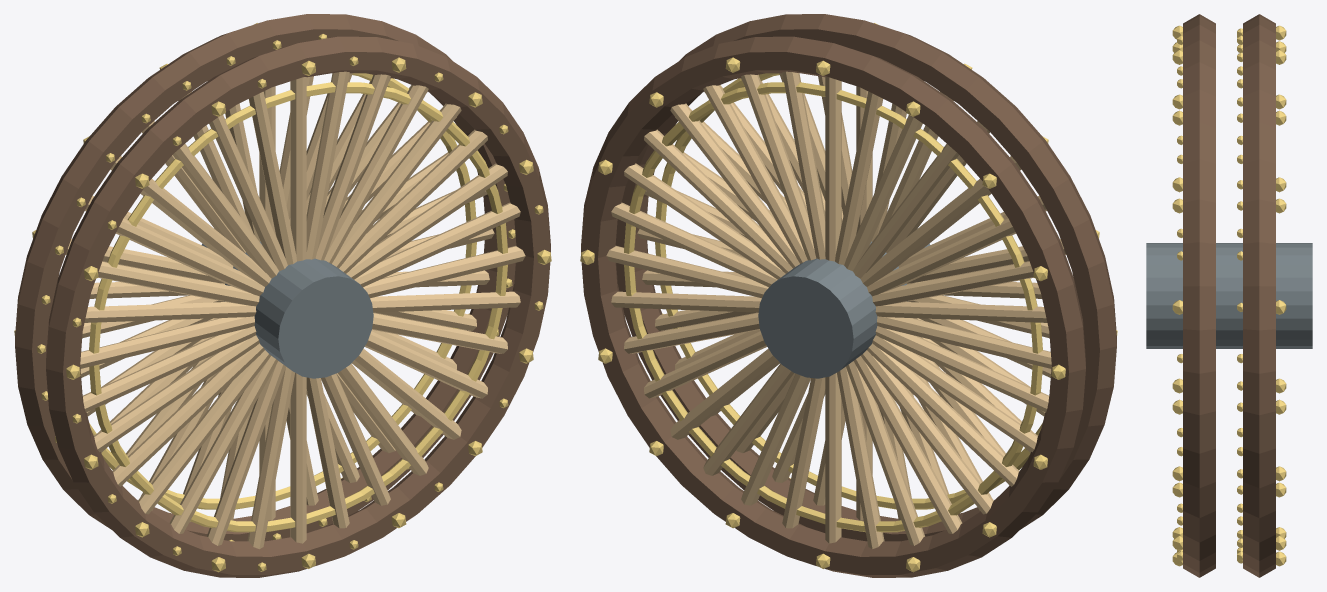
The model's file is matsuri_float_wheel.glb.
The picture shows the model from 3 angles, left to right: view 1: azimuth 30°, elevation 25°; view 2: azimuth 150°, elevation 25°; view 3: azimuth 270°, elevation 25°; orthographic projection. The views are drawn at different scales.
Visible parts, largest first — view 1: Giant ceremonial hikiyama wheel outer tire, Giant ceremonial hikiyama wheel outer tire.001, Central iron axle, Giant ceremonial hikiyama wheel gold hoop, Giant ceremonial hikiyama wheel gold hoop.001, Giant ceremonial hikiyama wheel spoke.004, Giant ceremonial hikiyama wheel spoke.005, Giant ceremonial hikiyama wheel spoke.020, Giant ceremonial hikiyama wheel spoke.021, Giant ceremonial hikiyama wheel spoke.019, Giant ceremonial hikiyama wheel spoke.006, Giant ceremonial hikiyama wheel spoke.003 (+46 smaller); view 2: Giant ceremonial hikiyama wheel outer tire.001, Giant ceremonial hikiyama wheel outer tire, Central iron axle, Giant ceremonial hikiyama wheel gold hoop.001, Giant ceremonial hikiyama wheel gold hoop, Giant ceremonial hikiyama wheel spoke.036, Giant ceremonial hikiyama wheel spoke.037, Giant ceremonial hikiyama wheel spoke.052, Giant ceremonial hikiyama wheel spoke.053, Giant ceremonial hikiyama wheel spoke.051, Giant ceremonial hikiyama wheel spoke.038, Giant ceremonial hikiyama wheel spoke.035 (+46 smaller); view 3: Giant ceremonial hikiyama wheel outer tire, Giant ceremonial hikiyama wheel outer tire.001, Central iron axle.
Part boxes in pixels (box(x1,y1,x2,y2)): Giant ceremonial hikiyama wheel outer tire: box(46, 36, 550, 577); Giant ceremonial hikiyama wheel outer tire.001: box(15, 14, 516, 541); Central iron axle: box(201, 241, 373, 378); Giant ceremonial hikiyama wheel gold hoop: box(89, 82, 507, 532); Giant ceremonial hikiyama wheel gold hoop.001: box(89, 73, 476, 509); Giant ceremonial hikiyama wheel spoke.004: box(332, 103, 461, 268); Giant ceremonial hikiyama wheel spoke.005: box(324, 85, 428, 263); Giant ceremonial hikiyama wheel spoke.020: box(138, 350, 270, 514); Giant ceremonial hikiyama wheel spoke.021: box(169, 356, 277, 533); Giant ceremonial hikiyama wheel spoke.019: box(112, 343, 264, 486); Giant ceremonial hikiyama wheel spoke.006: box(315, 74, 390, 260); Giant ceremonial hikiyama wheel spoke.003: box(339, 129, 487, 273); Giant ceremonial hikiyama wheel outer tire.001: box(581, 36, 1085, 577); Giant ceremonial hikiyama wheel outer tire: box(615, 14, 1116, 541); Central iron axle: box(758, 241, 930, 378); Giant ceremonial hikiyama wheel gold hoop.001: box(624, 82, 1042, 532); Giant ceremonial hikiyama wheel gold hoop: box(655, 73, 1042, 509); Giant ceremonial hikiyama wheel spoke.036: box(670, 103, 799, 268); Giant ceremonial hikiyama wheel spoke.037: box(703, 85, 807, 263); Giant ceremonial hikiyama wheel spoke.052: box(861, 350, 993, 514); Giant ceremonial hikiyama wheel spoke.053: box(854, 356, 962, 533); Giant ceremonial hikiyama wheel spoke.051: box(867, 343, 1019, 486); Giant ceremonial hikiyama wheel spoke.038: box(741, 74, 816, 260); Giant ceremonial hikiyama wheel spoke.035: box(644, 129, 792, 273); Giant ceremonial hikiyama wheel outer tire: box(1183, 14, 1215, 577); Giant ceremonial hikiyama wheel outer tire.001: box(1243, 14, 1275, 577); Central iron axle: box(1146, 243, 1312, 348).
Size of the model in its own units: 1.95 by 1.95 by 0.5756.
